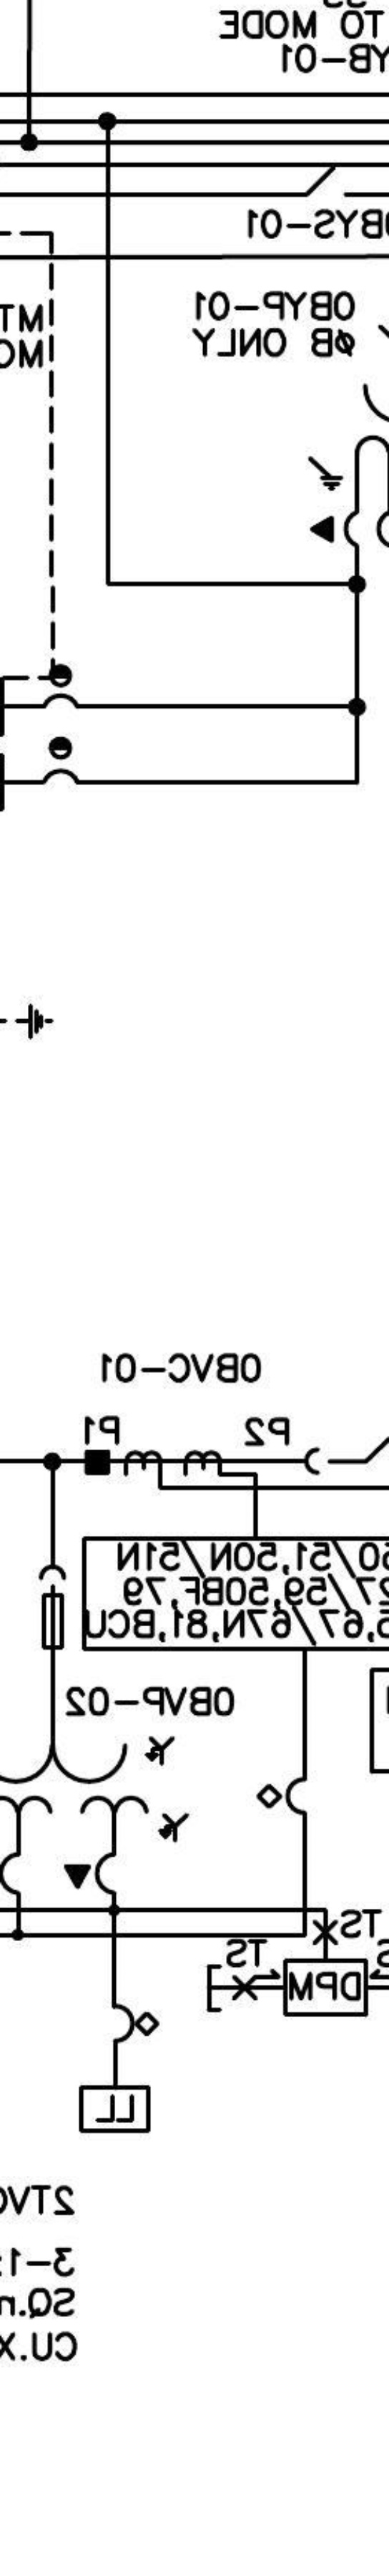115_ds: (305, 168, 350, 197)
DPM: (282, 1957, 369, 2017)
LL: (79, 2085, 151, 2134)
